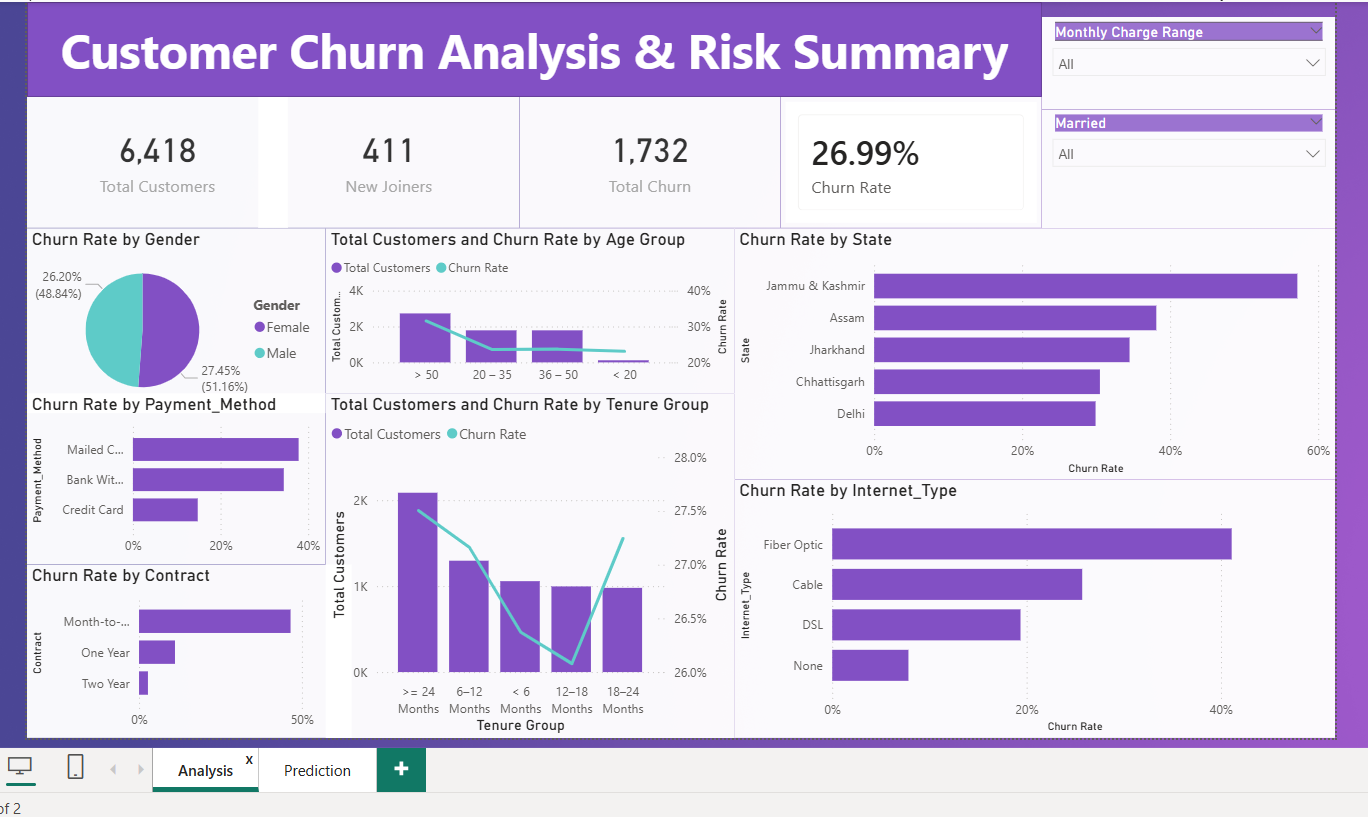

This screenshot's page, from the dashboard's own definition file:
{"tool":"powerbi","page":{"name":"Analysis","canvas":[1280,720],"ordinal":0},"visuals":[{"type":"advanceCardE03760C5AB684758B56AA29F9E6C257B","fields":{"mainMeasure":["tbl_Measures.Total Customers"]},"box":[0,92.9,255.6,128.4],"z":0},{"type":"advanceCardE03760C5AB684758B56AA29F9E6C257B","fields":{"mainMeasure":["tbl_Measures.New Joiners"]},"box":[226.2,92.9,255.6,128.4],"z":1000},{"type":"advanceCardE03760C5AB684758B56AA29F9E6C257B","fields":{"mainMeasure":["tbl_Measures.Total Churn"]},"box":[481.8,92.9,255.6,128.4],"z":2000},{"type":"cardVisual","fields":{"Data":["tbl_Measures.Churn Rate"]},"box":[737.4,92.9,255.6,128.4],"z":3000},{"type":"pieChart","fields":{"Category":["prod_Churn.Gender"],"Y":["tbl_Measures.Churn Rate"]},"box":[0,221.3,292.3,181],"z":4000},{"type":"lineStackedColumnComboChart","fields":{"Category":["mapping_AgeGrp.Age Group"],"Y":["tbl_Measures.Total Customers"],"Y2":["tbl_Measures.Churn Rate"]},"box":[292.3,221.3,399.9,161.4],"z":5000},{"type":"clusteredBarChart","fields":{"Category":["prod_Churn.Payment_Method"],"Y":["tbl_Measures.Churn Rate"]},"box":[0,382.7,292.3,167.5],"z":6000},{"type":"clusteredBarChart","fields":{"Category":["prod_Churn.Contract"],"Y":["tbl_Measures.Churn Rate"]},"box":[0,550.3,317.9,170],"z":7000},{"type":"lineStackedColumnComboChart","fields":{"Category":["mapping_TenureGrp. Tenure Group"],"Y":["tbl_Measures.Total Customers"],"Y2":["tbl_Measures.Churn Rate"]},"box":[292.3,382.7,399.9,337.5],"z":8000},{"type":"clusteredBarChart","fields":{"Y":["tbl_Measures.Churn Rate"],"Category":["prod_Churn.State"]},"box":[692.1,221.3,588.2,245.8],"z":9000},{"type":"clusteredBarChart","fields":{"Y":["tbl_Measures.Churn Rate"],"Category":["prod_Churn.Internet_Type"]},"box":[692.1,467.1,588.2,253.1],"z":10000},{"type":"slicer","fields":{"Values":["prod_Churn.Monthly Charge Range"]},"box":[992.9,14.7,287.4,90.5],"z":11000},{"type":"slicer","fields":{"Values":["prod_Churn.Married"]},"box":[992.9,105.2,287.4,116.2],"z":12000},{"type":"shape","box":[0,0,992.9,92.9],"z":13000}]}

Visuals, with their boxes on the page's 1280x720 design canvas (x1, y1, x2, y2). These are canvas units, not pixel positions in the 1368x817 screenshot, which may show the page scaled, cropped or inside an application window:
advanceCardE03760C5AB684758B56AA29F9E6C257B - tbl_Measures.Total Customers: bbox=(0, 93, 256, 221)
advanceCardE03760C5AB684758B56AA29F9E6C257B - tbl_Measures.New Joiners: bbox=(226, 93, 482, 221)
advanceCardE03760C5AB684758B56AA29F9E6C257B - tbl_Measures.Total Churn: bbox=(482, 93, 737, 221)
cardVisual - tbl_Measures.Churn Rate: bbox=(737, 93, 993, 221)
pieChart - prod_Churn.Gender x tbl_Measures.Churn Rate: bbox=(0, 221, 292, 402)
lineStackedColumnComboChart - mapping_AgeGrp.Age Group x tbl_Measures.Total Customers: bbox=(292, 221, 692, 383)
clusteredBarChart - prod_Churn.Payment_Method x tbl_Measures.Churn Rate: bbox=(0, 383, 292, 550)
clusteredBarChart - prod_Churn.Contract x tbl_Measures.Churn Rate: bbox=(0, 550, 318, 720)
lineStackedColumnComboChart - mapping_TenureGrp. Tenure Group x tbl_Measures.Total Customers: bbox=(292, 383, 692, 720)
clusteredBarChart - tbl_Measures.Churn Rate x prod_Churn.State: bbox=(692, 221, 1280, 467)
clusteredBarChart - tbl_Measures.Churn Rate x prod_Churn.Internet_Type: bbox=(692, 467, 1280, 720)
slicer - prod_Churn.Monthly Charge Range: bbox=(993, 15, 1280, 105)
slicer - prod_Churn.Married: bbox=(993, 105, 1280, 221)
shape: bbox=(0, 0, 993, 93)
